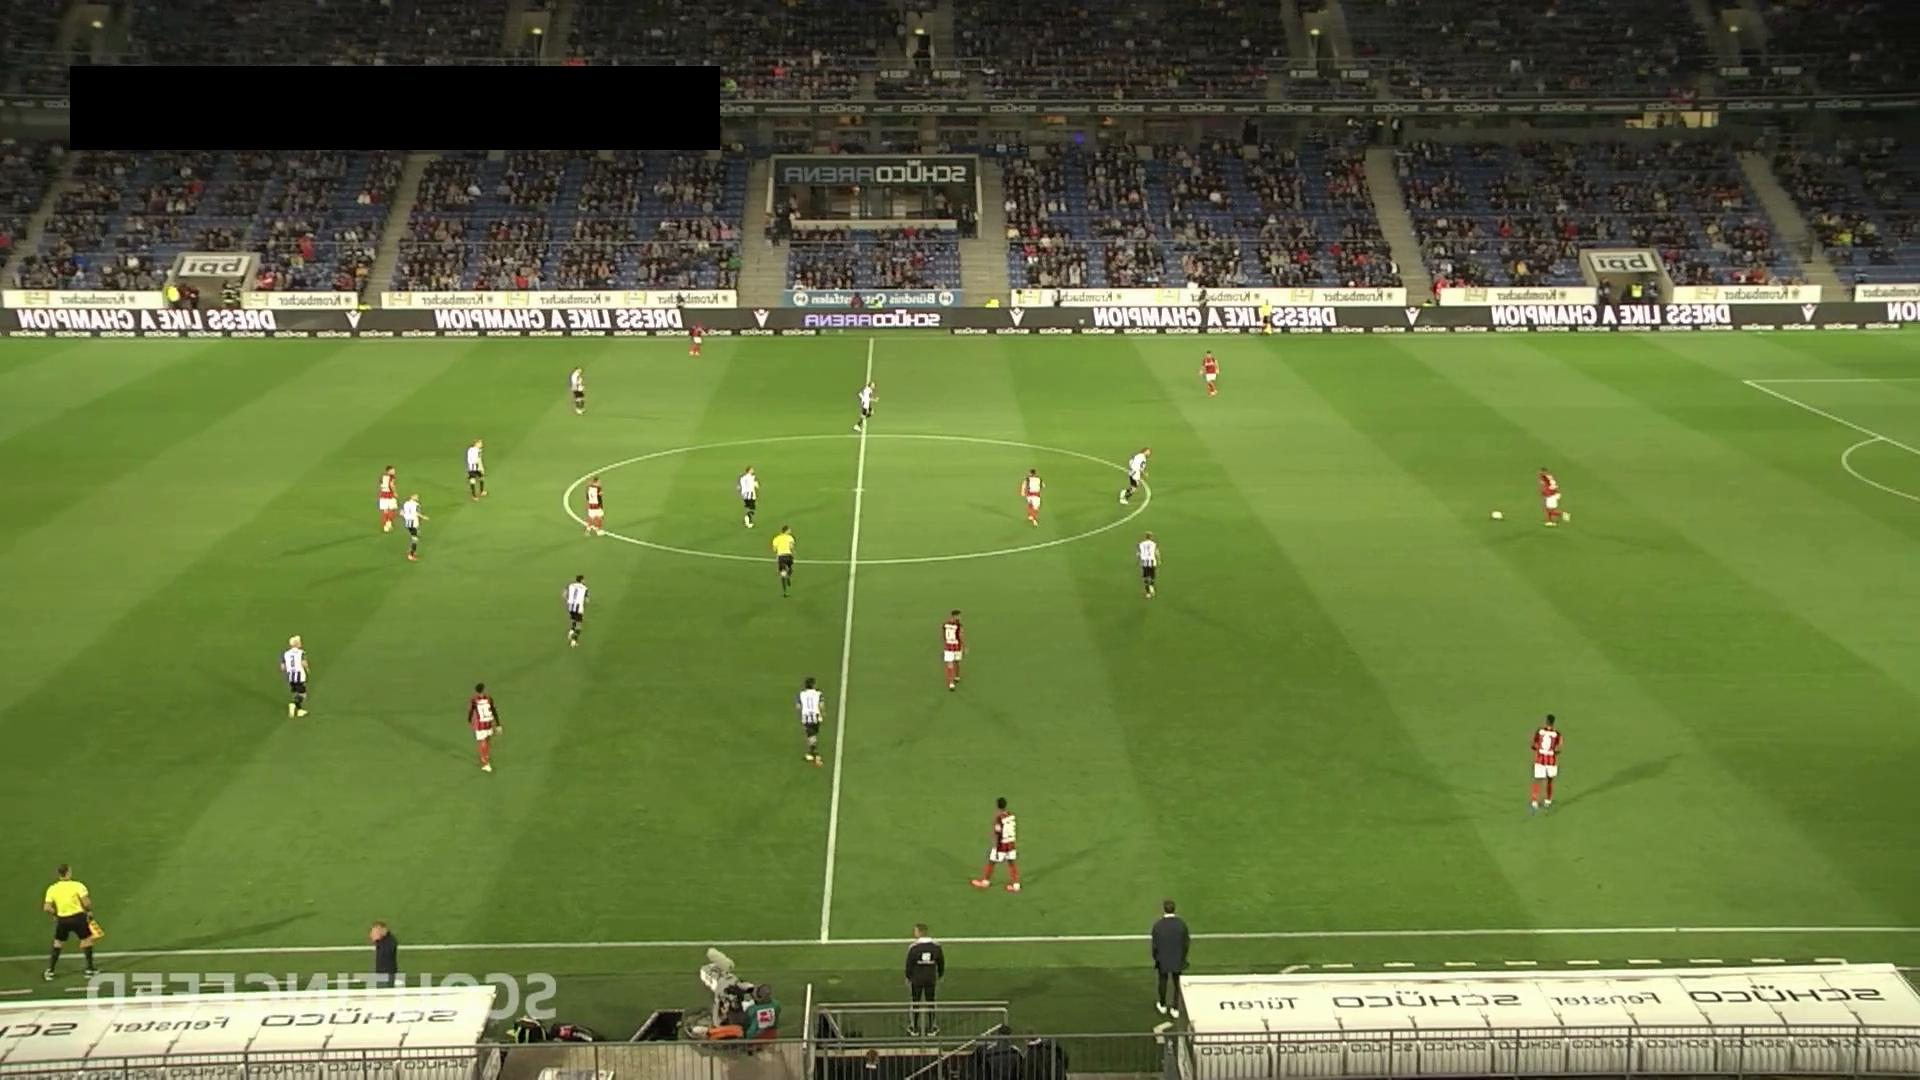ball: (1489, 509, 1505, 522)
player: (969, 795, 1021, 893), (1528, 713, 1564, 816), (466, 682, 503, 773), (796, 676, 825, 767), (279, 634, 310, 718), (563, 572, 590, 648), (941, 609, 966, 691), (401, 492, 430, 561), (1536, 467, 1569, 526), (1119, 446, 1151, 503), (1137, 530, 1161, 600), (377, 464, 400, 533), (851, 380, 880, 434), (737, 465, 761, 528), (1019, 468, 1044, 527), (466, 439, 488, 501), (584, 476, 605, 538), (1199, 349, 1220, 398), (569, 366, 586, 415), (687, 319, 705, 359)
referee: (41, 863, 100, 981), (771, 523, 796, 598), (1259, 298, 1275, 336)
